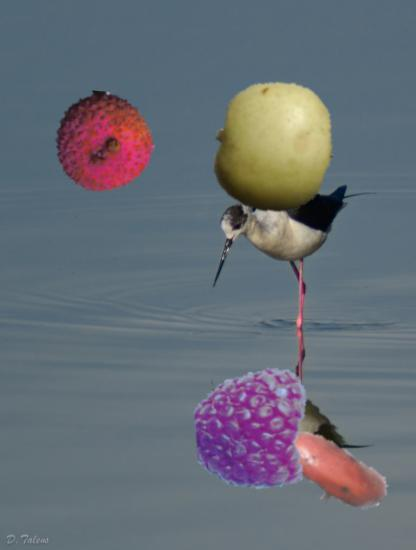Apple: (207, 79, 342, 214)
Banana: (251, 389, 395, 533)
Lychee: (53, 92, 156, 195)
Raspberry: (190, 367, 314, 491)
